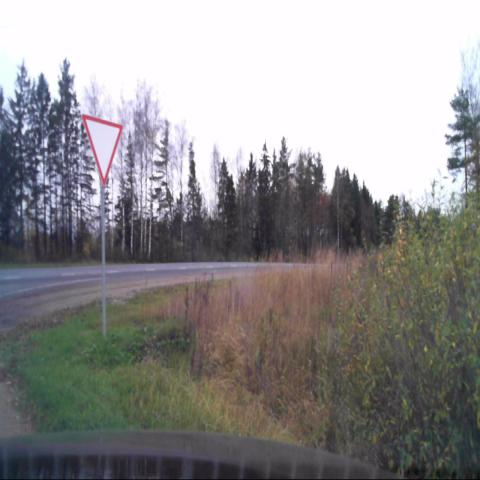2_4: (82, 114, 123, 185)
